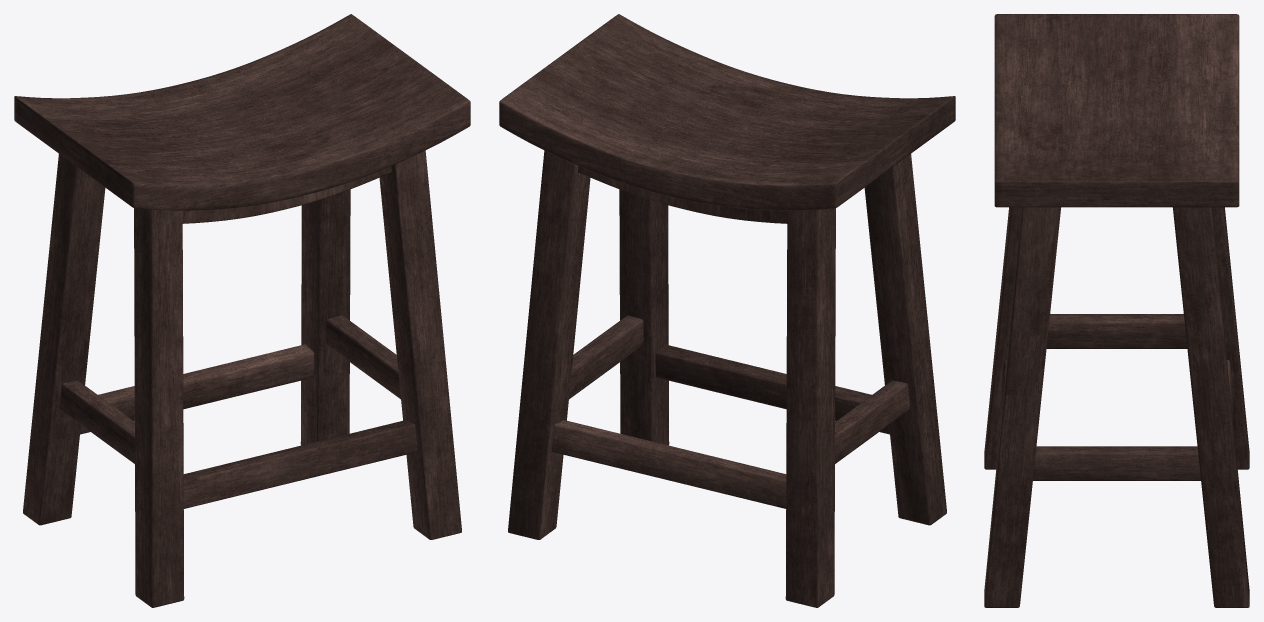
The model's file is Chair22.fbx.
The picture shows the model from 3 angles, left to right: view 1: azimuth 30°, elevation 25°; view 2: azimuth 150°, elevation 25°; view 3: azimuth 270°, elevation 25°; orthographic projection. The views are drawn at different scales.
Visible parts, largest first — view 1: Chair22; view 2: Chair22; view 3: Chair22.
Boxes of the visible parts, x1,y1,x2,y2 form: Chair22: (14, 14, 470, 607); Chair22: (499, 14, 955, 607); Chair22: (984, 14, 1249, 607).
Bounding box in the file's own units: 64.95 × 78.18 × 43.39.
